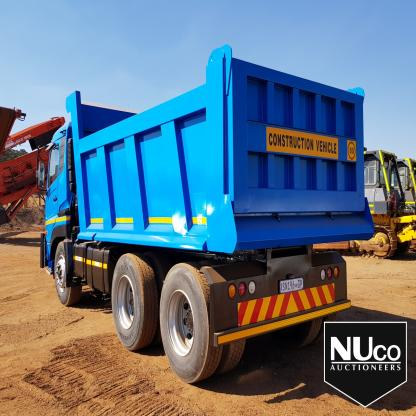dump_truck: (31, 44, 363, 380)
